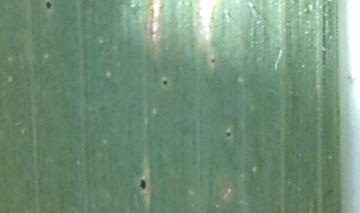tarspot: (136, 177, 150, 193), (158, 75, 170, 90), (42, 1, 54, 12), (207, 55, 218, 66), (222, 128, 231, 140)
